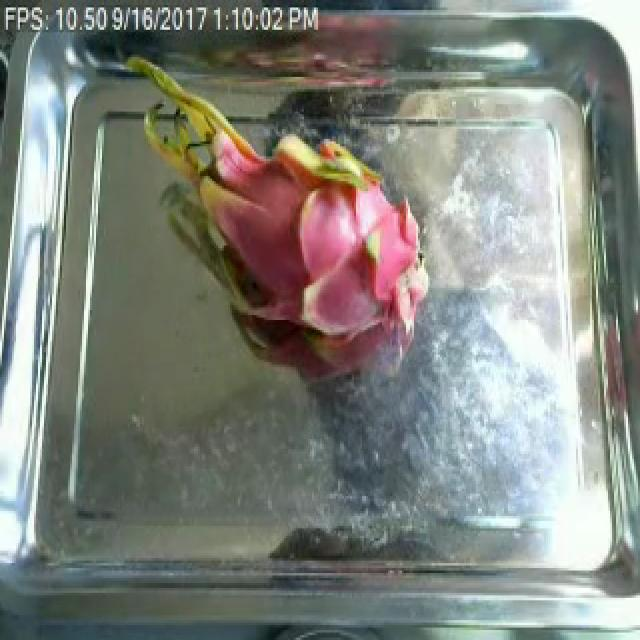fruit: (118, 50, 436, 397)
